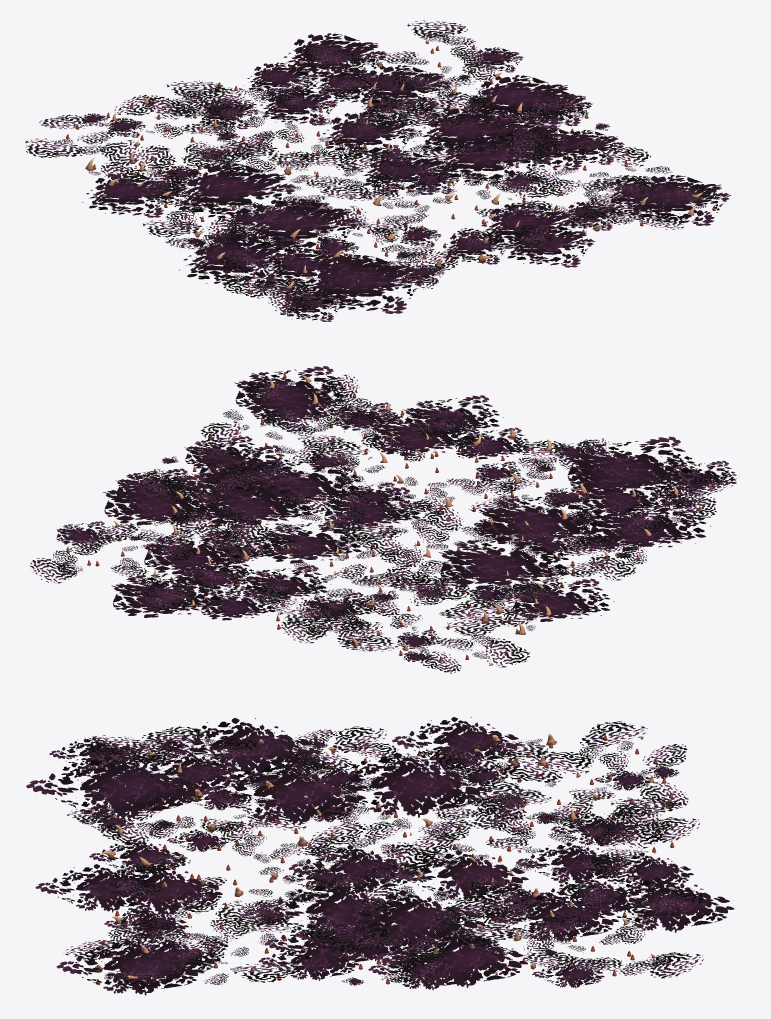
Rendered from FloorEffectTile1.fbx.
The picture shows the model from 3 angles, top to bottom: view 1: azimuth 30°, elevation 25°; view 2: azimuth 150°, elevation 25°; view 3: azimuth 270°, elevation 25°; orthographic projection. The views are drawn at different scales.
Visible parts, largest first — view 1: Cylinder.085; view 2: Cylinder.085; view 3: Cylinder.085.
Part boxes in pixels (x1,y1,x2,y2): Cylinder.085: (25, 20, 731, 321); Cylinder.085: (30, 366, 739, 673); Cylinder.085: (26, 717, 734, 995).
Bounding box in the file's own units: 2976 × 75.4 × 3128.
